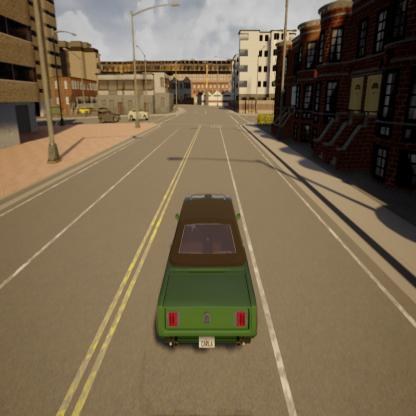Cars: (141, 173, 265, 366), (92, 104, 124, 122), (127, 104, 151, 125), (76, 103, 92, 113)
